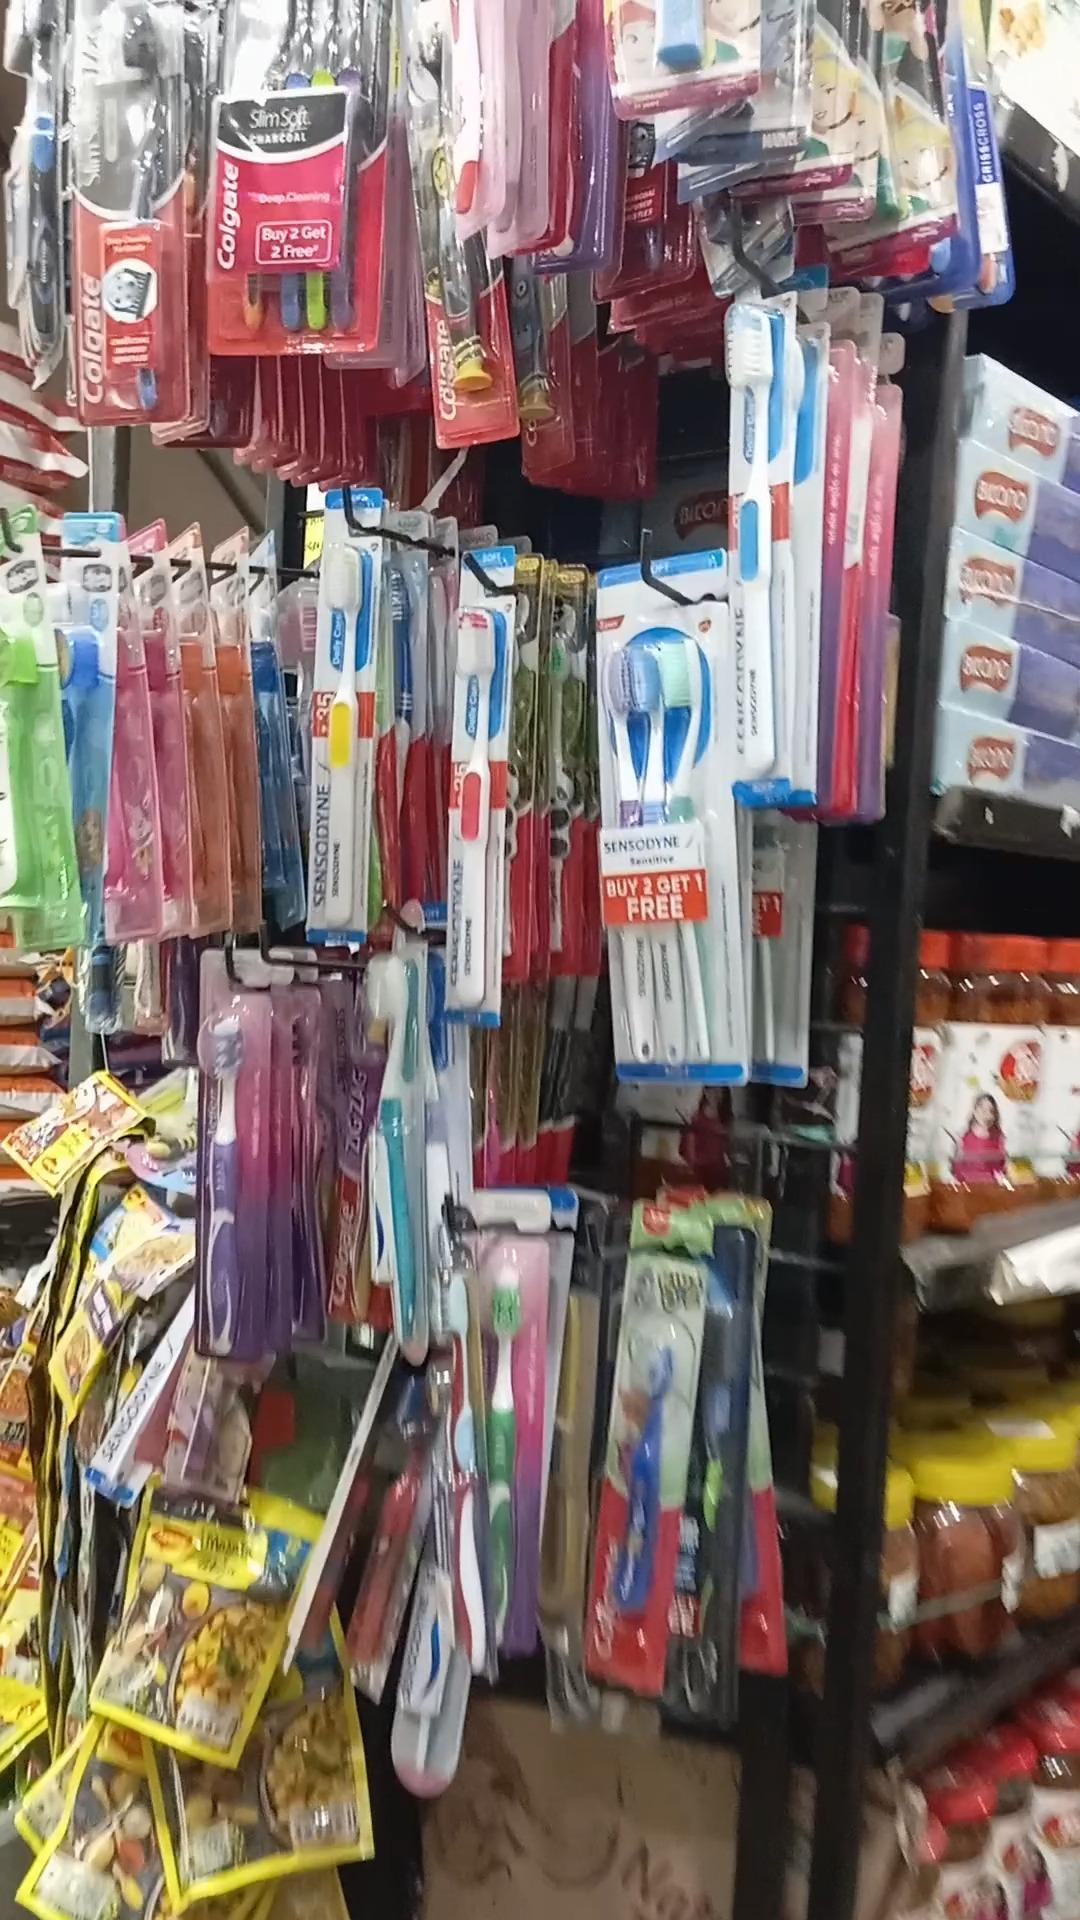15: (595, 556, 749, 1081)
soap: (67, 0, 194, 427)
